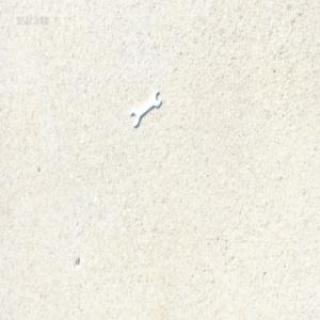Wrenchtrack_idkeyframe: (129, 89, 161, 127)
